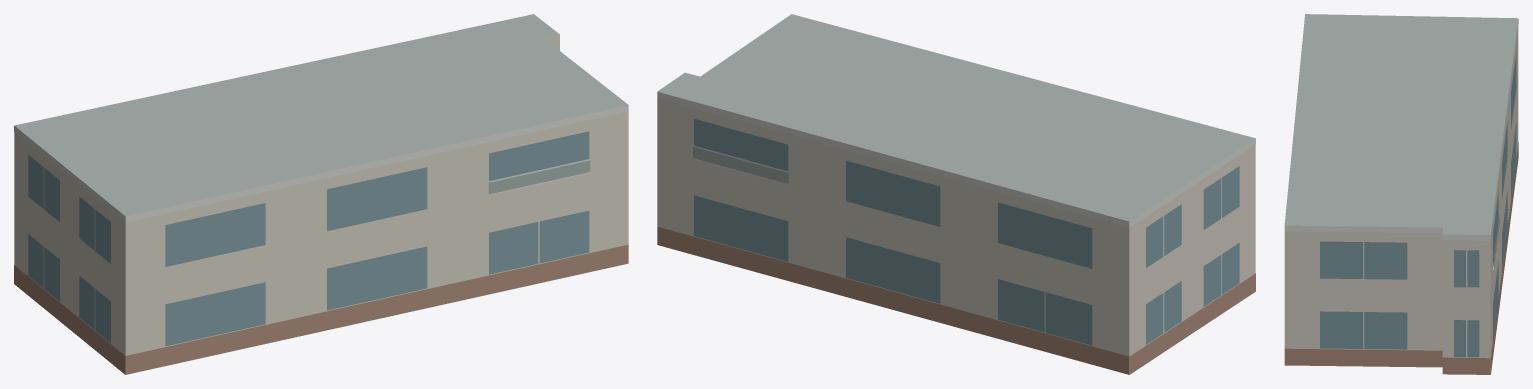
File: survey-upis-32563114.glb
3 views of the same model, side by side, from view 1: azimuth 30°, elevation 25°; view 2: azimuth 150°, elevation 25°; view 3: azimuth 270°, elevation 25° (orthographic). The views are drawn at different scales.
Parts seen in each view (by area): view 1: survey-upis-32563114.tmp; view 2: survey-upis-32563114.tmp; view 3: survey-upis-32563114.tmp.
Part boxes in pixels (x1=…): survey-upis-32563114.tmp: x1=14, y1=14, x2=628, y2=374; survey-upis-32563114.tmp: x1=657, y1=14, x2=1255, y2=374; survey-upis-32563114.tmp: x1=1284, y1=14, x2=1518, y2=374.
Bounding box in the file's own units: 20.69 × 6.1 × 9.26.
